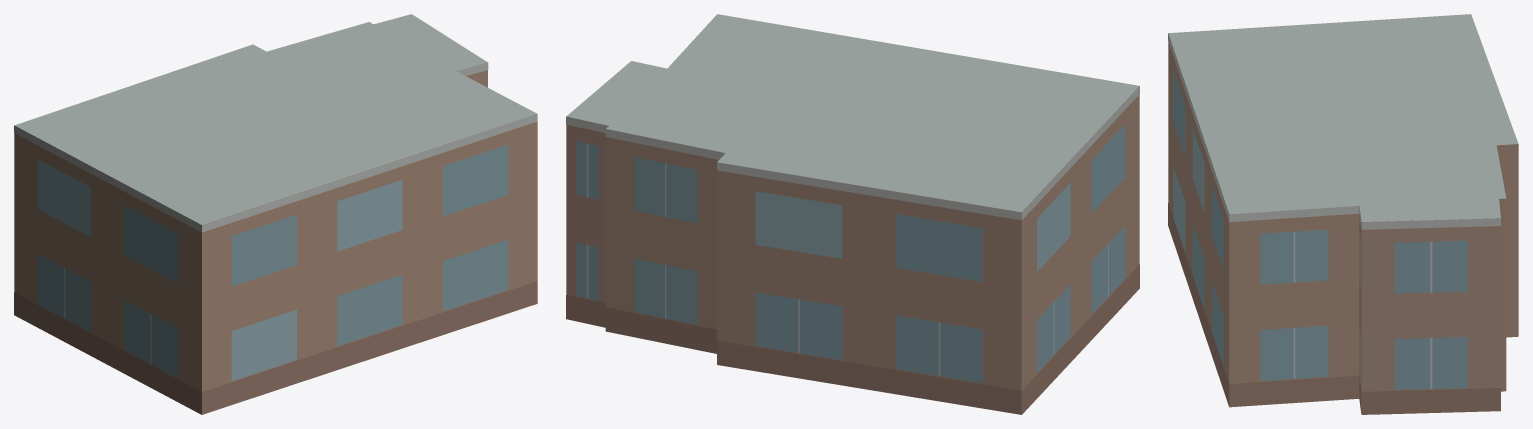
Rendered from survey-upis-32611357.glb.
3 views of the same model, side by side, from view 1: azimuth 30°, elevation 25°; view 2: azimuth 150°, elevation 25°; view 3: azimuth 270°, elevation 25° (orthographic). The views are drawn at different scales.
Visible parts, largest first — view 1: survey-upis-32611357.tmp; view 2: survey-upis-32611357.tmp; view 3: survey-upis-32611357.tmp.
Boxes of the visible parts, box(x1,y1,x2,y2) form: survey-upis-32611357.tmp: box(14, 14, 537, 414); survey-upis-32611357.tmp: box(566, 14, 1139, 414); survey-upis-32611357.tmp: box(1168, 14, 1518, 414).
Size of the model in its own units: 14.13 by 6.1 by 10.06.
